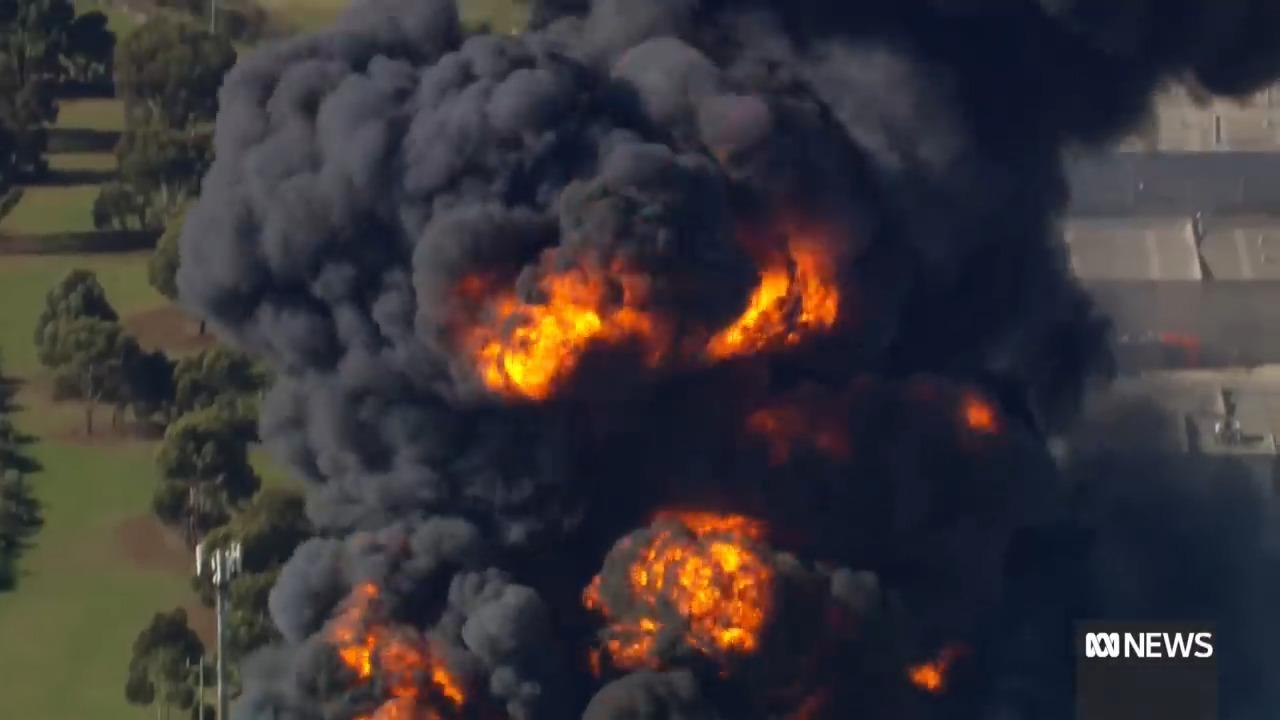fire: (590, 504, 772, 683), (717, 236, 852, 364), (476, 277, 610, 399), (331, 604, 464, 716), (906, 654, 965, 699), (961, 394, 1005, 439)
